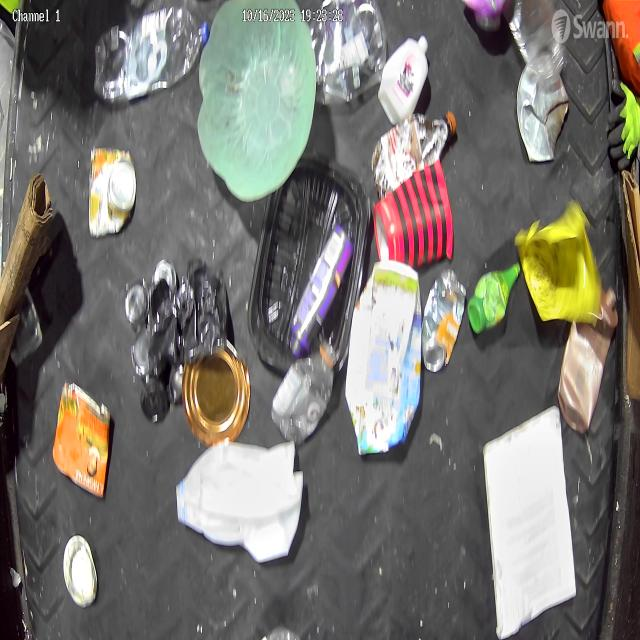can: (181, 338, 252, 447), (52, 377, 113, 502), (421, 267, 467, 374), (88, 144, 138, 238)
milk_jug: (175, 439, 304, 564)
non_white_jug: (556, 284, 619, 436)
plastic_bottle: (93, 4, 211, 104), (269, 338, 338, 448)
